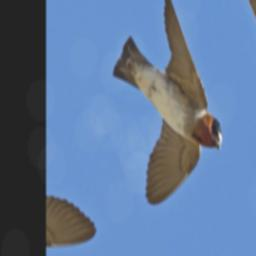Swallow: (83, 0, 236, 212)
